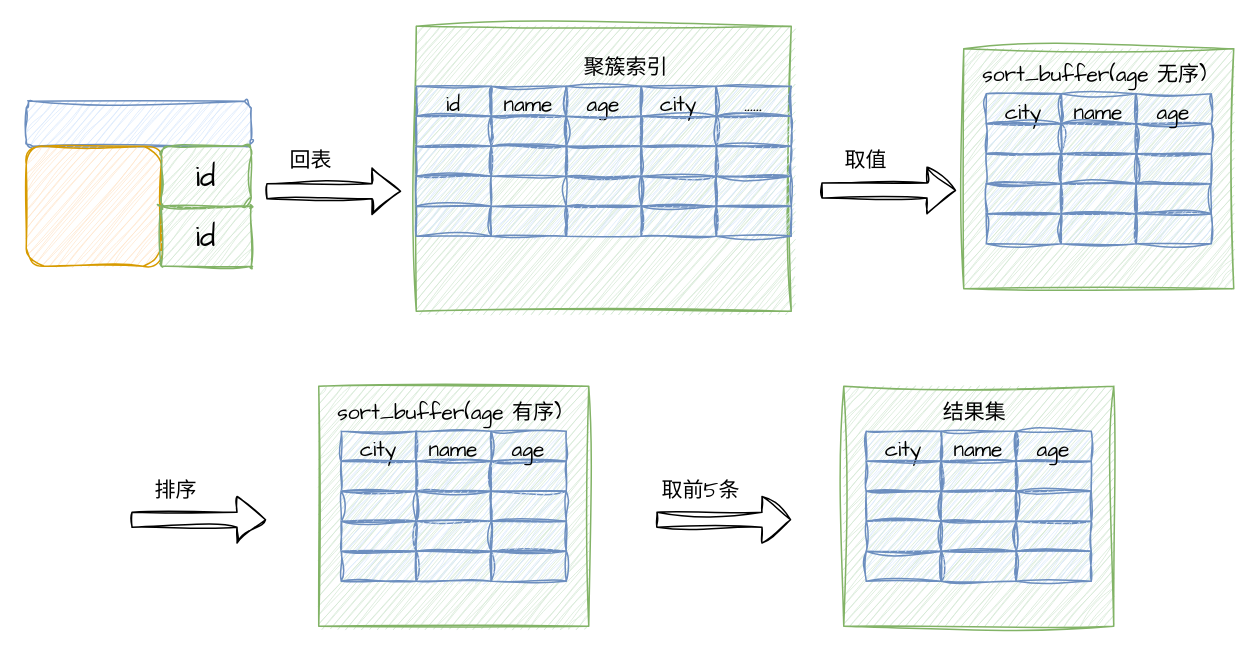
Some shapes in this 1260 by 653 pixel diagram are drawn without their labels. The shapes that lost their labels are listed below. From the top down, each one's centre as x and y in pixels, then its label:
point (138, 123): city索引
point (93, 205): city=北京
